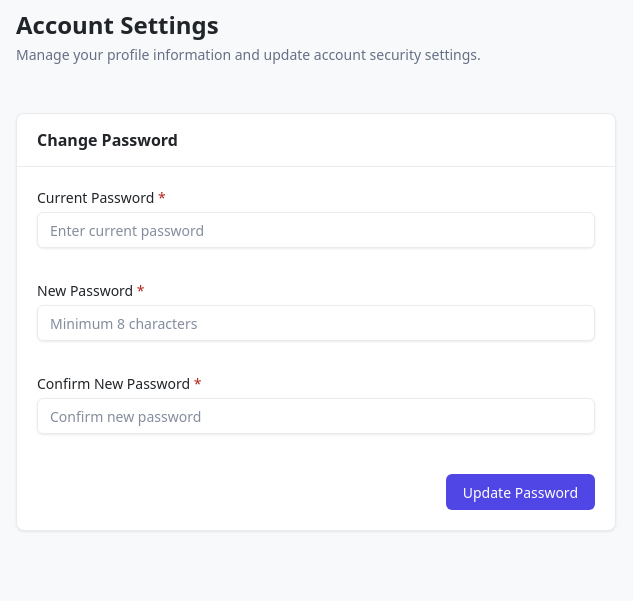
Test: AccountPage › shows client-side validation errors for short password and mismatch
In the password field labelled "Current Password": (316, 230) [37, 212, 595, 248], type "oldpass123"
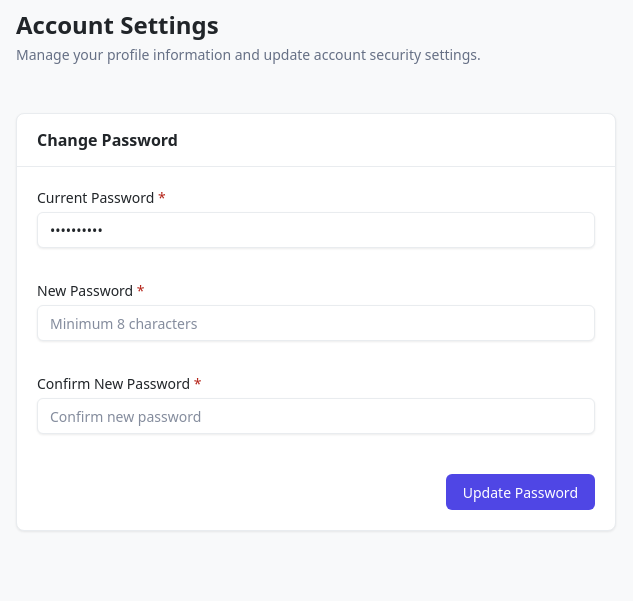
In the password field labelled "New Password": (316, 323) [37, 305, 595, 341], type "short"
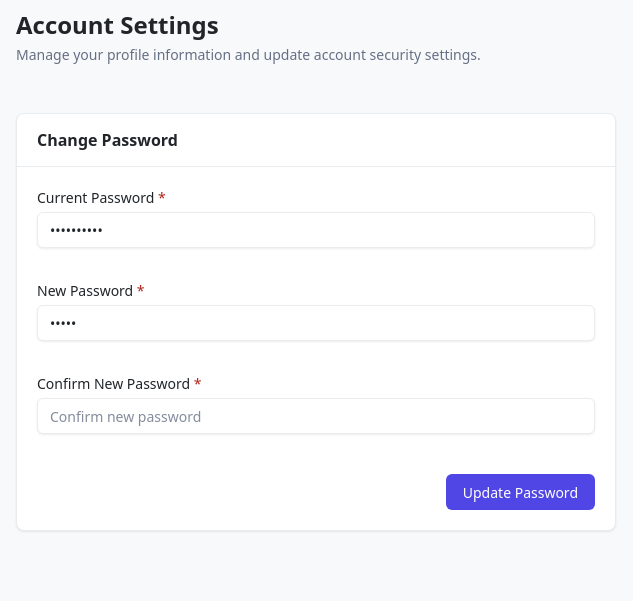
In the password field labelled "Confirm New Password": (316, 416) [37, 398, 595, 434], type "mismatch"
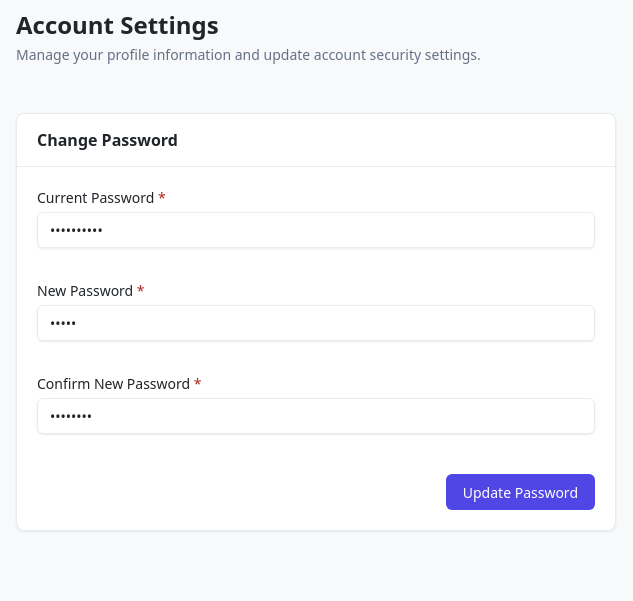
Click the button "Update Password": (520, 492) [446, 474, 595, 510]
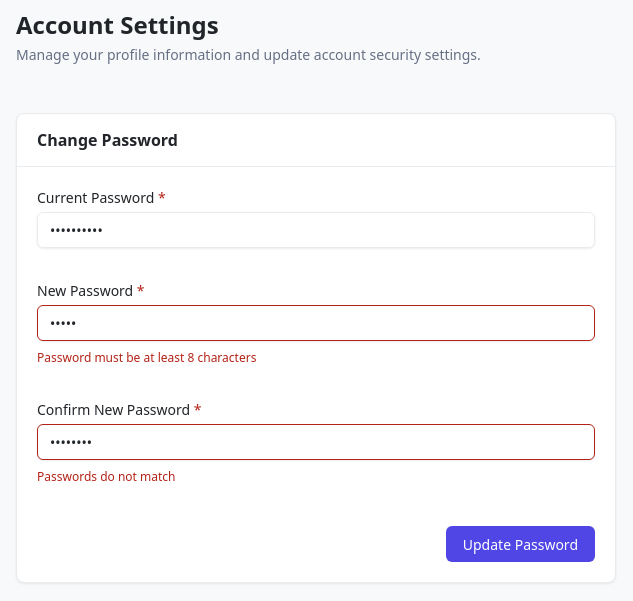
Expected: the text "Password must be at least 8 characters" is shown, [37, 349, 256, 366]
Expected: the text "Passwords do not match" is shown, [37, 468, 176, 485]
